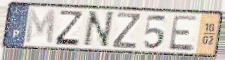5: (142, 14, 168, 50)
E: (167, 14, 200, 53)
M: (24, 7, 57, 46)
N: (81, 10, 116, 49)
Z: (110, 11, 143, 50), (53, 9, 85, 47)
